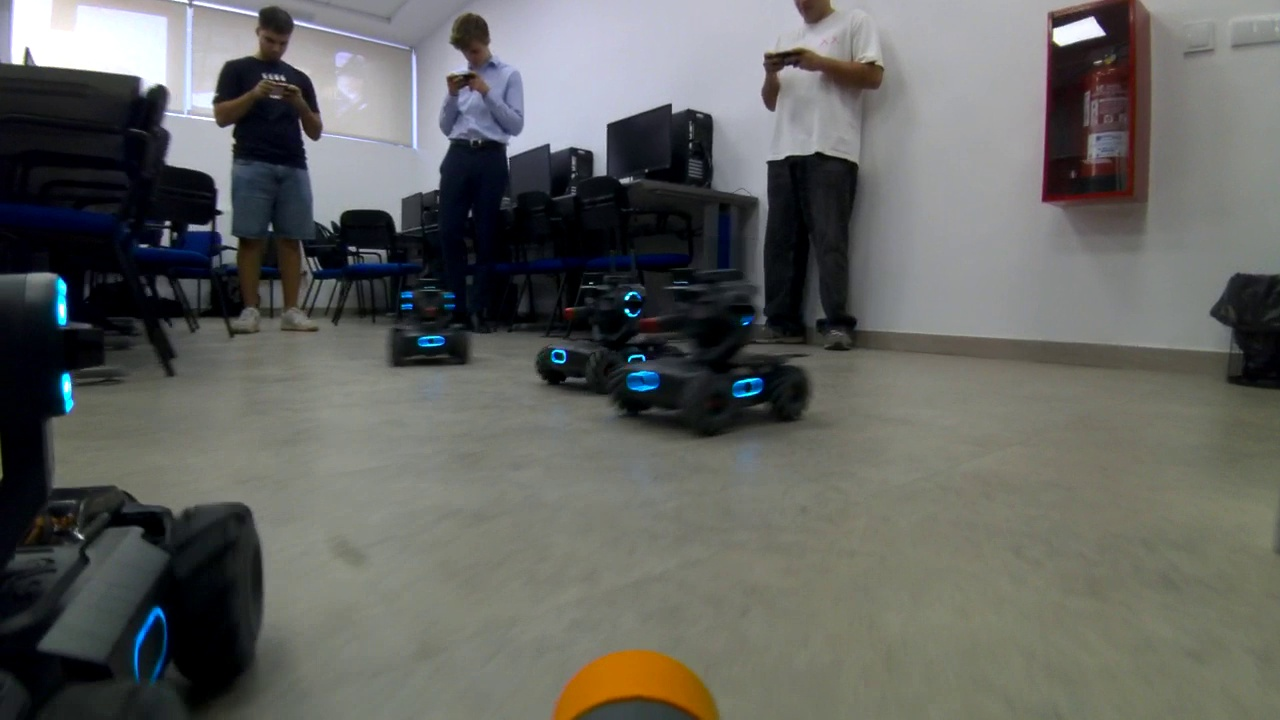robot: (610, 258, 835, 428), (528, 260, 665, 395), (388, 277, 475, 370)
